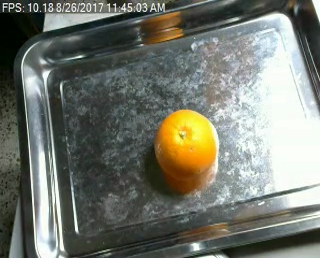Orange: (155, 109, 219, 181)
